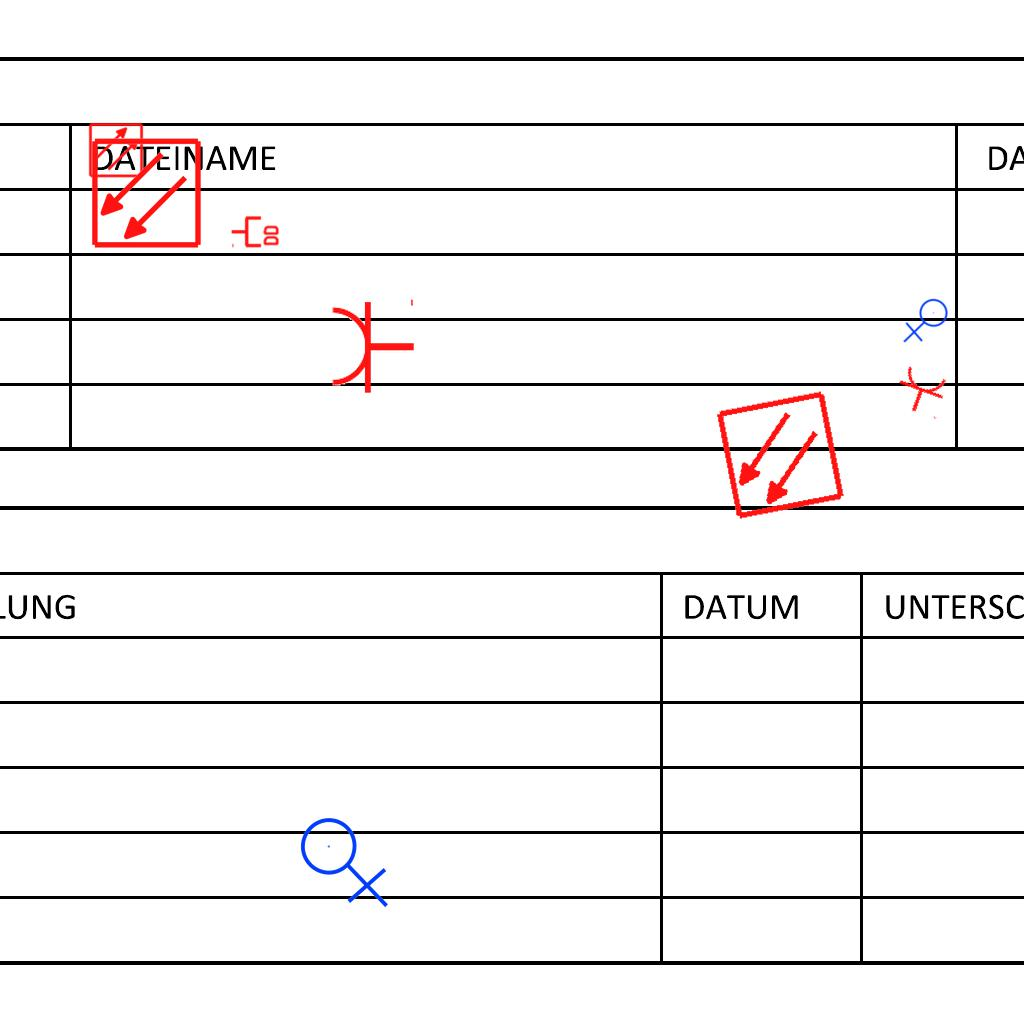Datenanschluss_zweifach: (230, 214, 281, 248)
Elektroanschluss_allgemein_230V_Geraeteanschlussdose_230V: (299, 809, 393, 908), (903, 298, 952, 345)
RMO_Rauchmelder_optischer: (714, 389, 847, 522), (90, 137, 203, 250), (88, 122, 144, 178)
Schukosteckdose_einfach: (329, 295, 416, 395), (890, 363, 953, 421)
